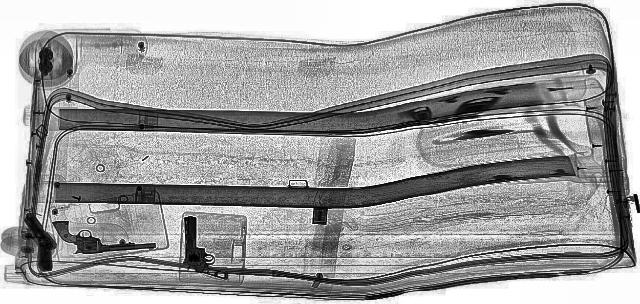Gun: (49, 214, 157, 256), (180, 216, 230, 280), (20, 212, 58, 270)
